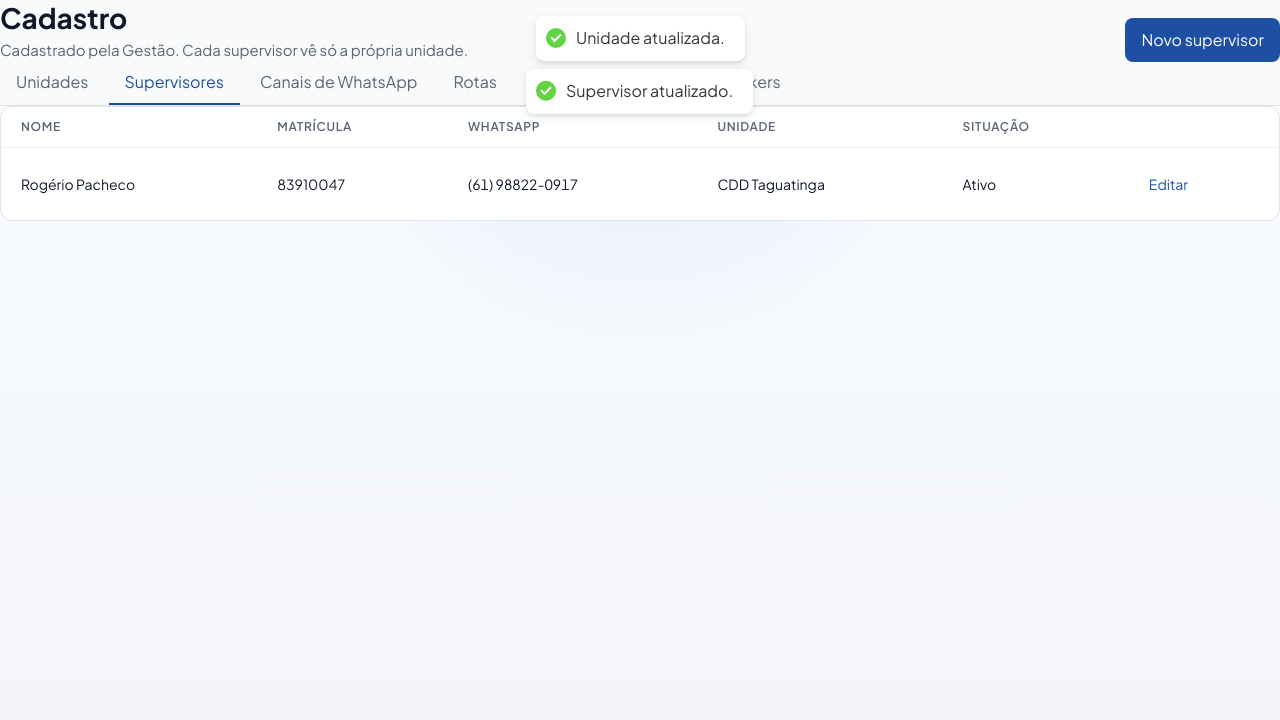
Cadastro (auditoria) › erros da API vão ao campo (Zod e details.campo) e o diálogo continua aberto
Click the button with aria-label "Editar Rogério Pacheco". click: (1168, 184)
box: [1141, 162, 1196, 206]
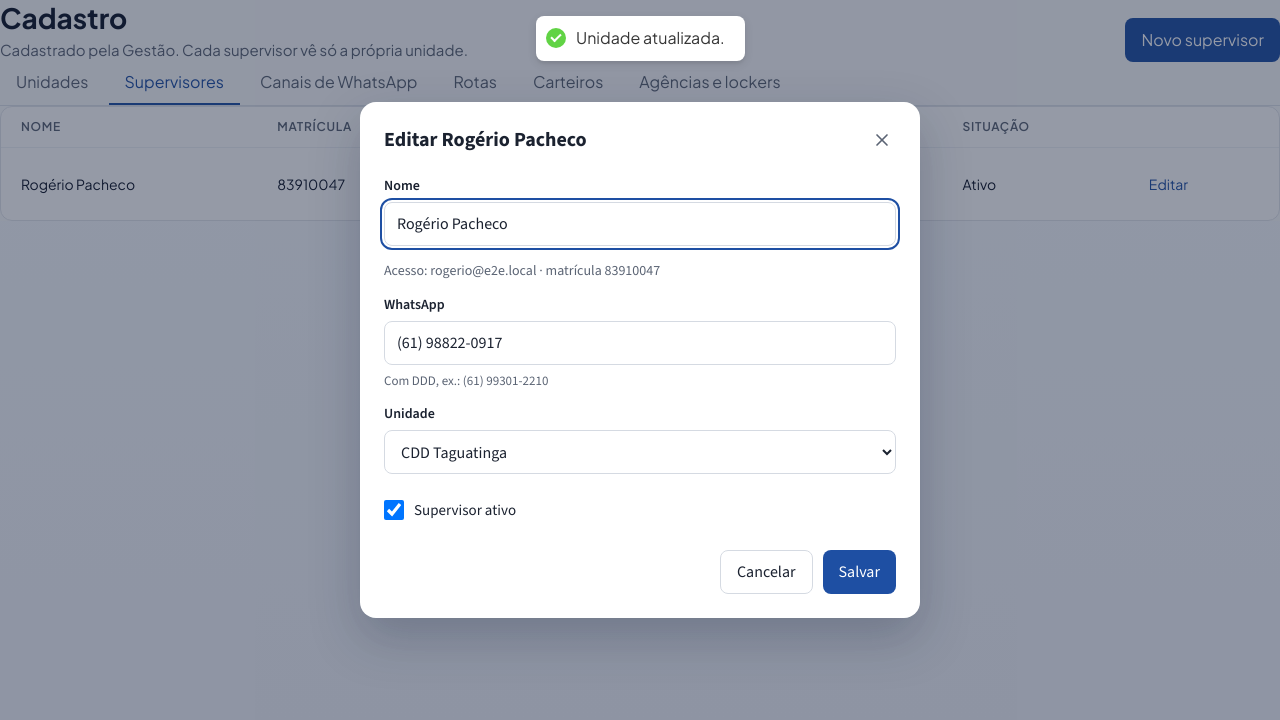
Click the button "Salvar". click: (859, 572)
box: [822, 550, 896, 594]
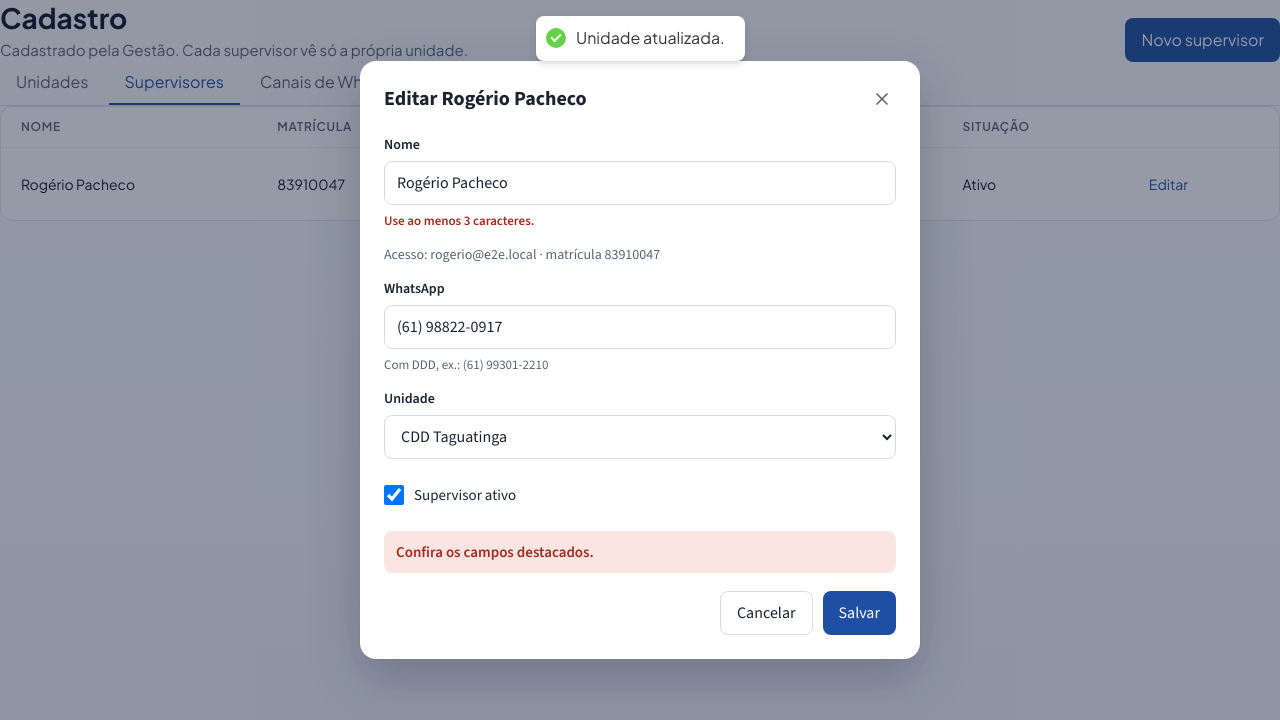
Expected: the text "Use ao menos 3 caracteres." is shown, [384, 212, 534, 229]
Expected: the text "Confira os campos destacados." is shown, [384, 531, 896, 573]
Click the button "Salvar". click: (859, 613)
box: [822, 591, 896, 635]
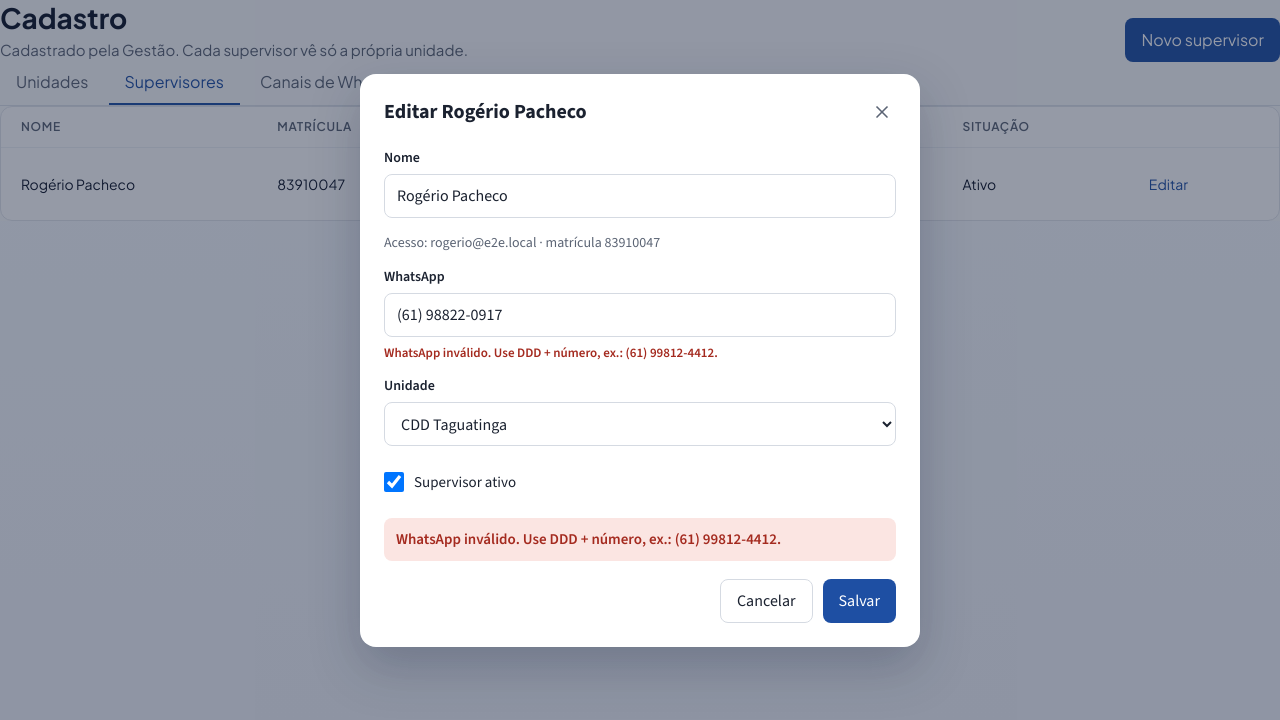
Expected: the dialog "Editar Rogério Pacheco" is shown, [360, 74, 920, 646]
Expected: the 1st text "WhatsApp inválido. Use DDD + número, ex.: (61) 99812-4412." is shown, [384, 344, 718, 360]
Expected: the text "Use ao menos 3 caracteres." is gone
